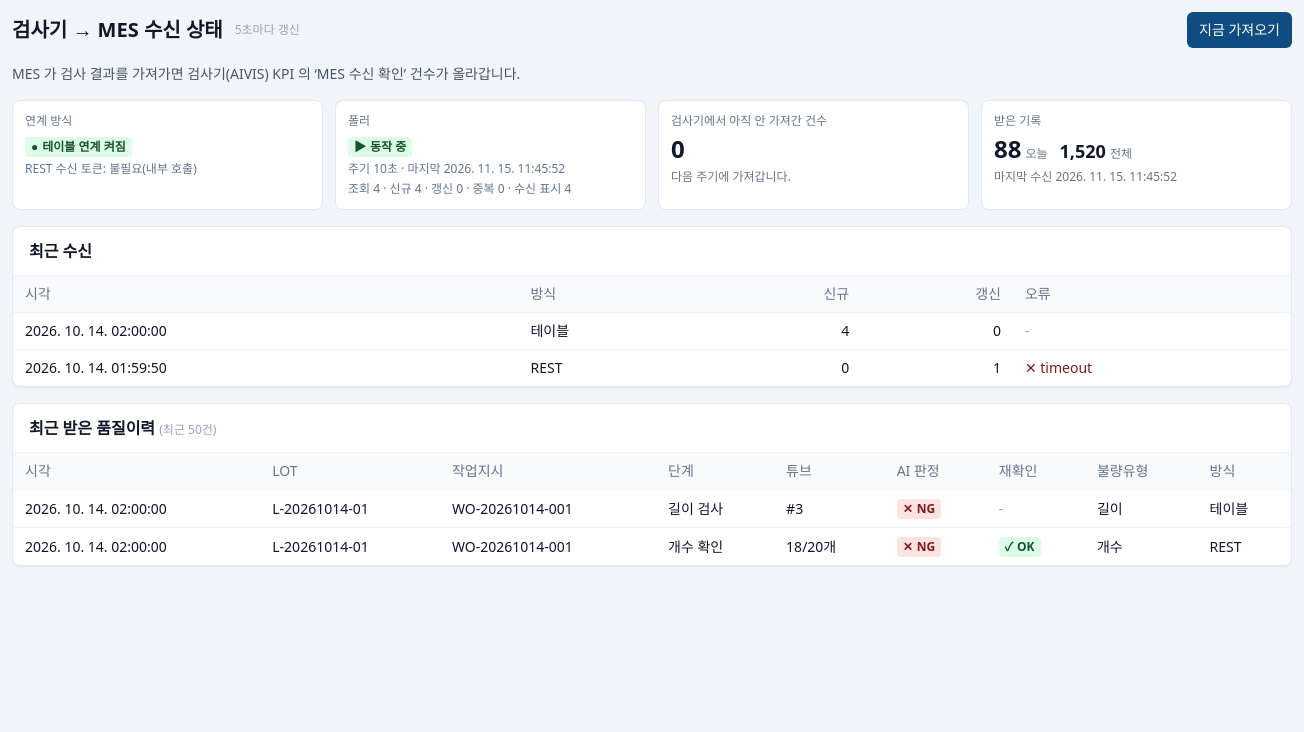
it: MesLinkPage › '지금 가져오기' → POST /intake/poll, 결과 요약 표시
Expected: the element with test id "link-mode" is shown, [12,100,323,210]
Click the button with test id "poll-now".
click(1240, 30)  # box [1187,12,1292,48]
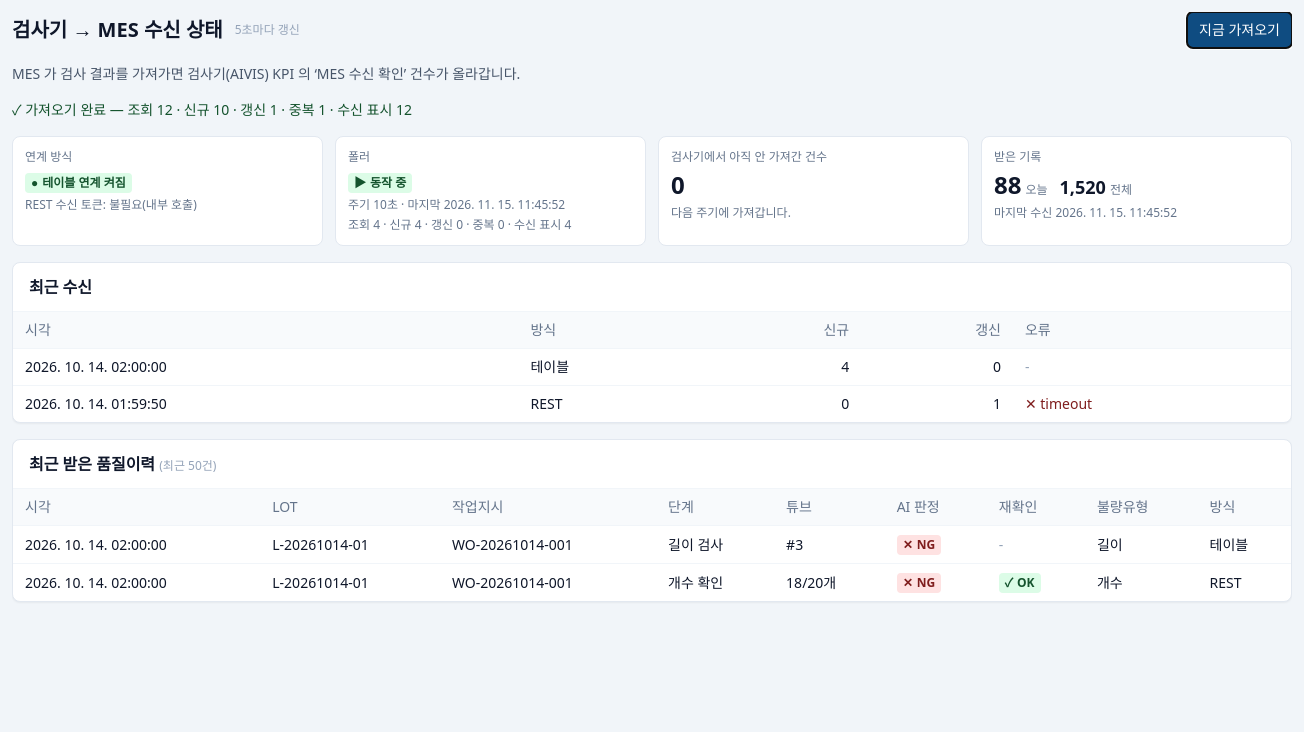
Now the message with test id "poll-result" shows "가져오기 완료", box [12,100,412,119]
Now the message with test id "poll-result" shows "조회 12 · 신규 10 · 갱신 1 · 중복 1 · 수신 표시 12", box [127,100,412,119]
